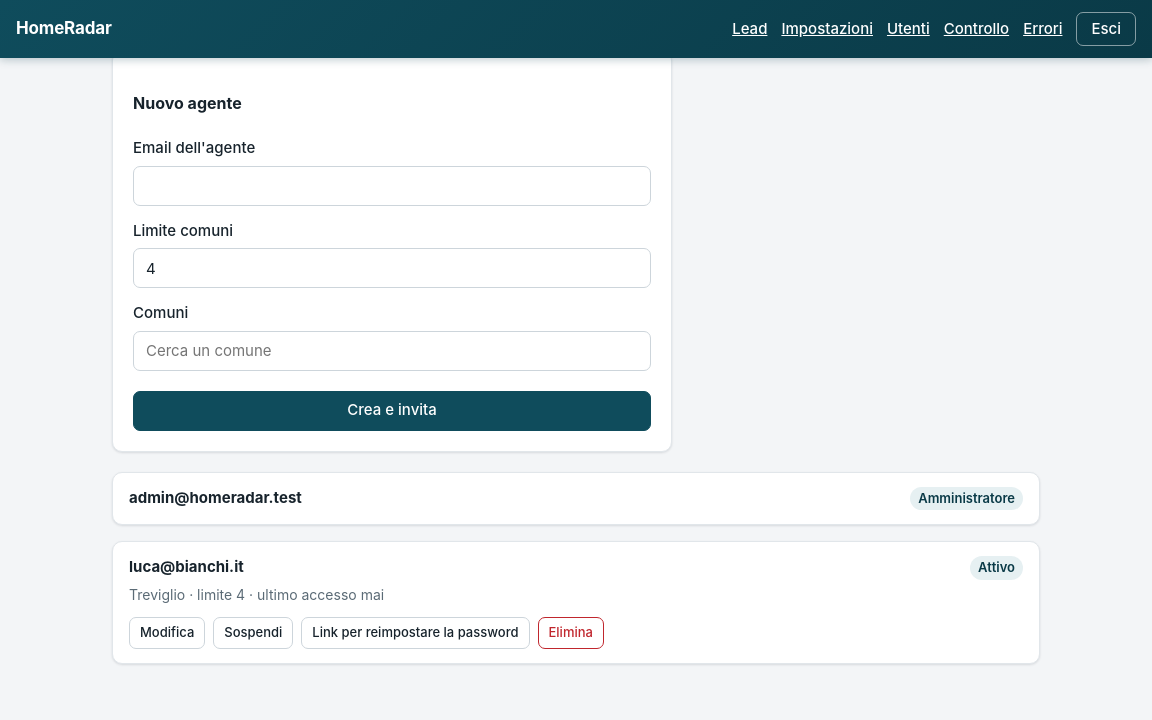
it: admin utenti › elimina solo dopo conferma
The width and height of the screenshot is (1152, 720).
(page scrolled)
Step 1. Click the button "Elimina" → (571, 632), box [538,616,604,648]
(page scrolled)
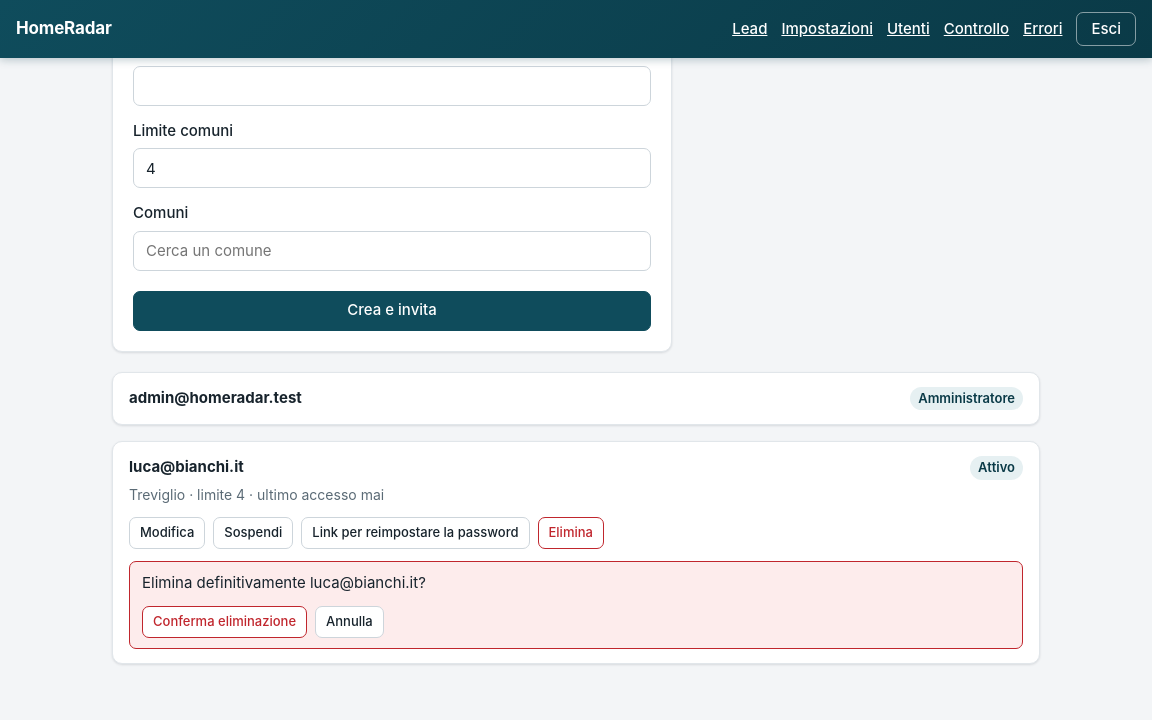
expect the text "Elimina definitivamente luca@bianchi.it?" is shown: met, box [142,572,426,592]
Step 2. Click the button "Conferma eliminazione" → (225, 622), box [142,606,307,638]
(page scrolled)
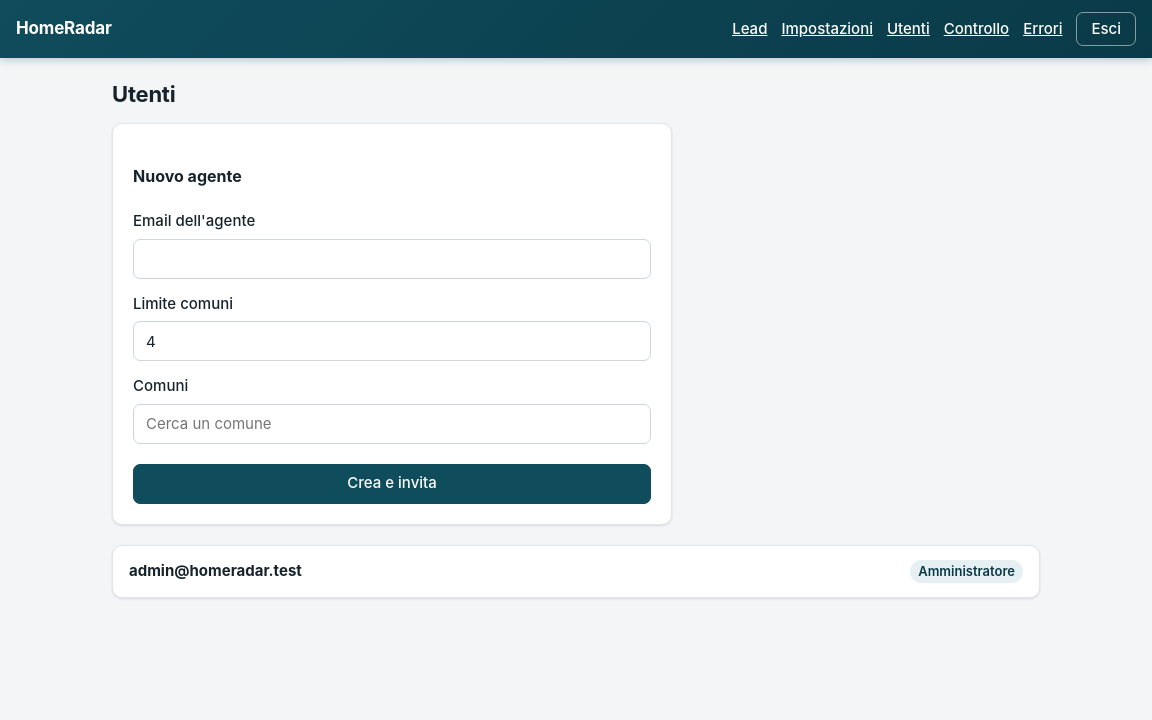
expect the text "luca@bianchi.it" is gone: met
